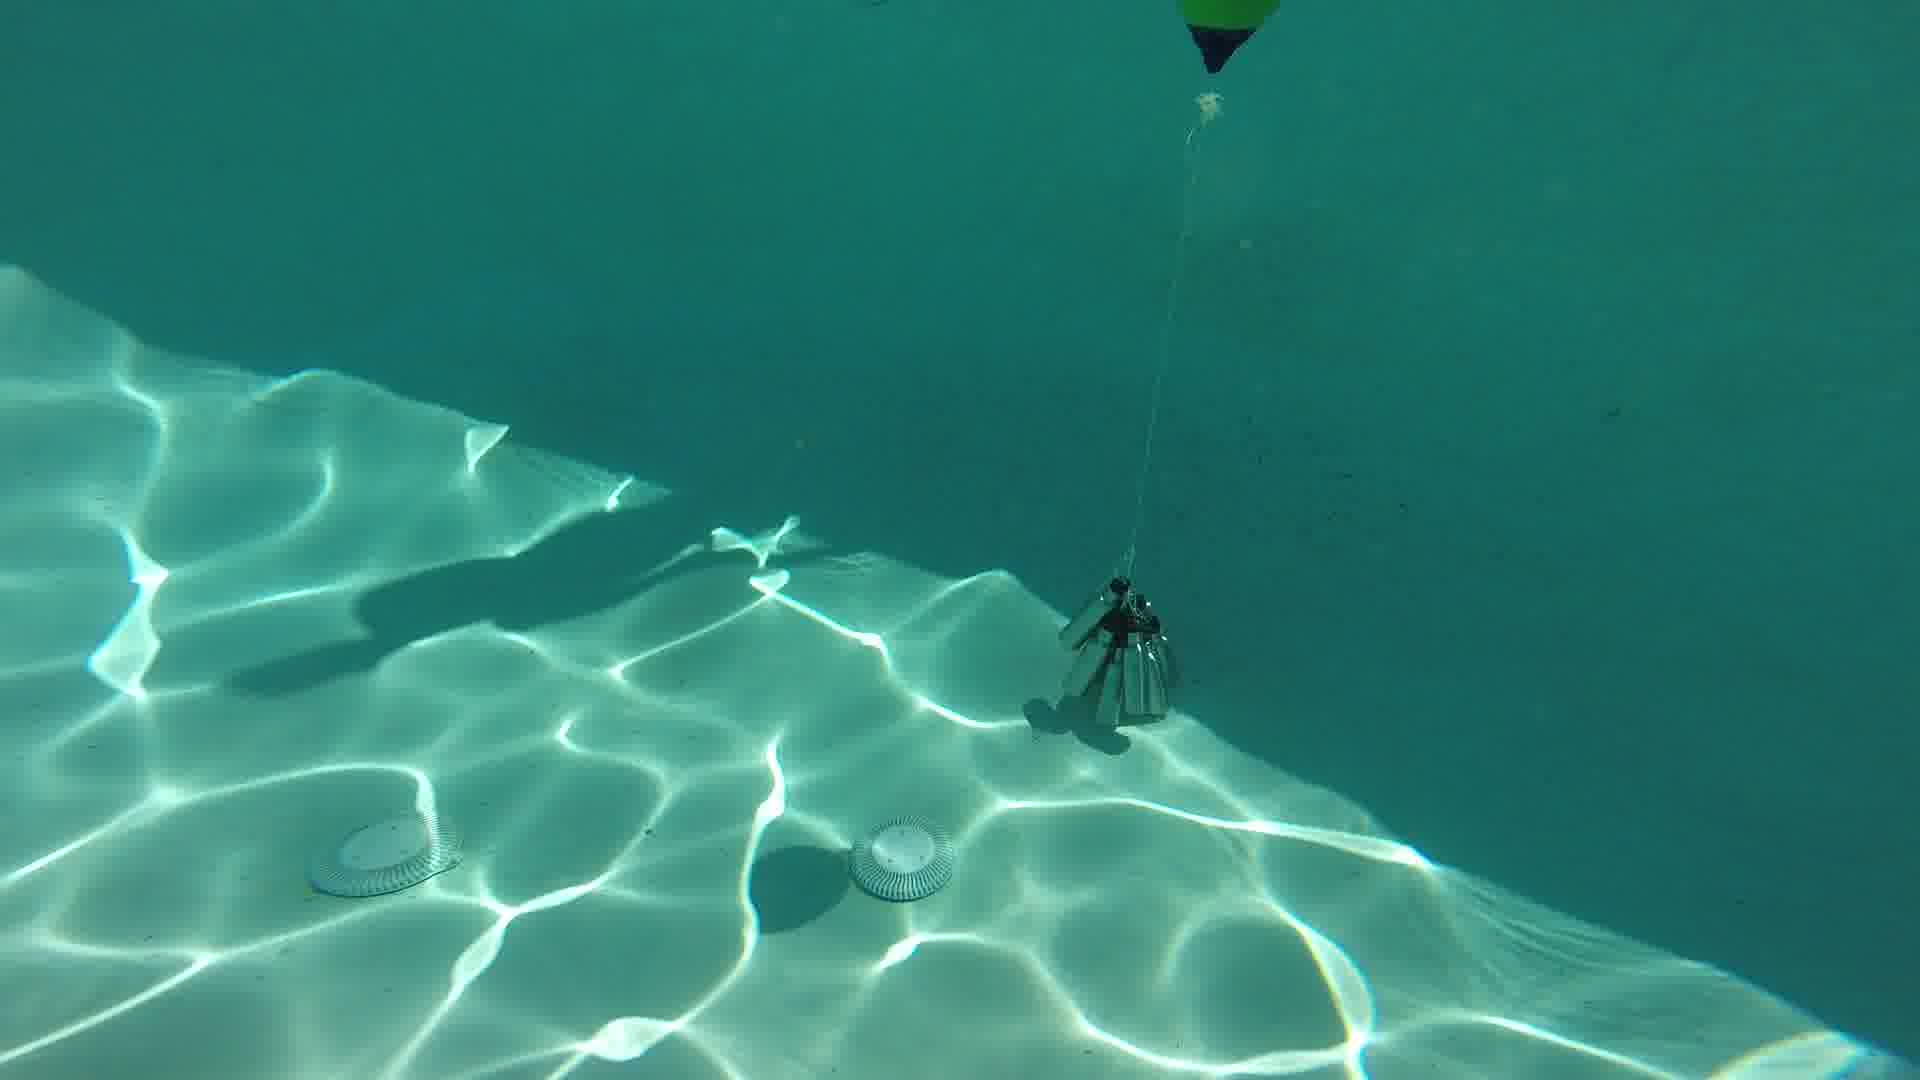yellow_buoy: (1172, 1, 1288, 127)
